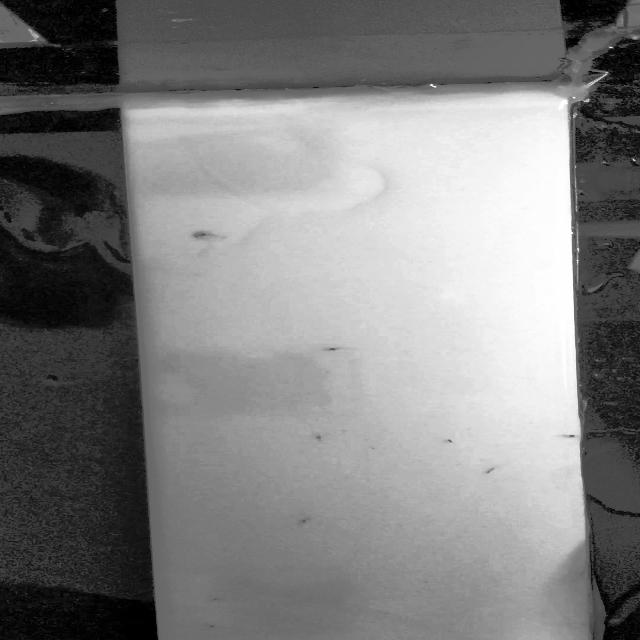shrimp: (286, 514, 324, 530), (177, 228, 220, 242), (195, 592, 228, 608), (198, 618, 225, 634), (318, 342, 344, 358), (430, 433, 457, 447), (545, 429, 578, 440), (300, 432, 335, 442)
